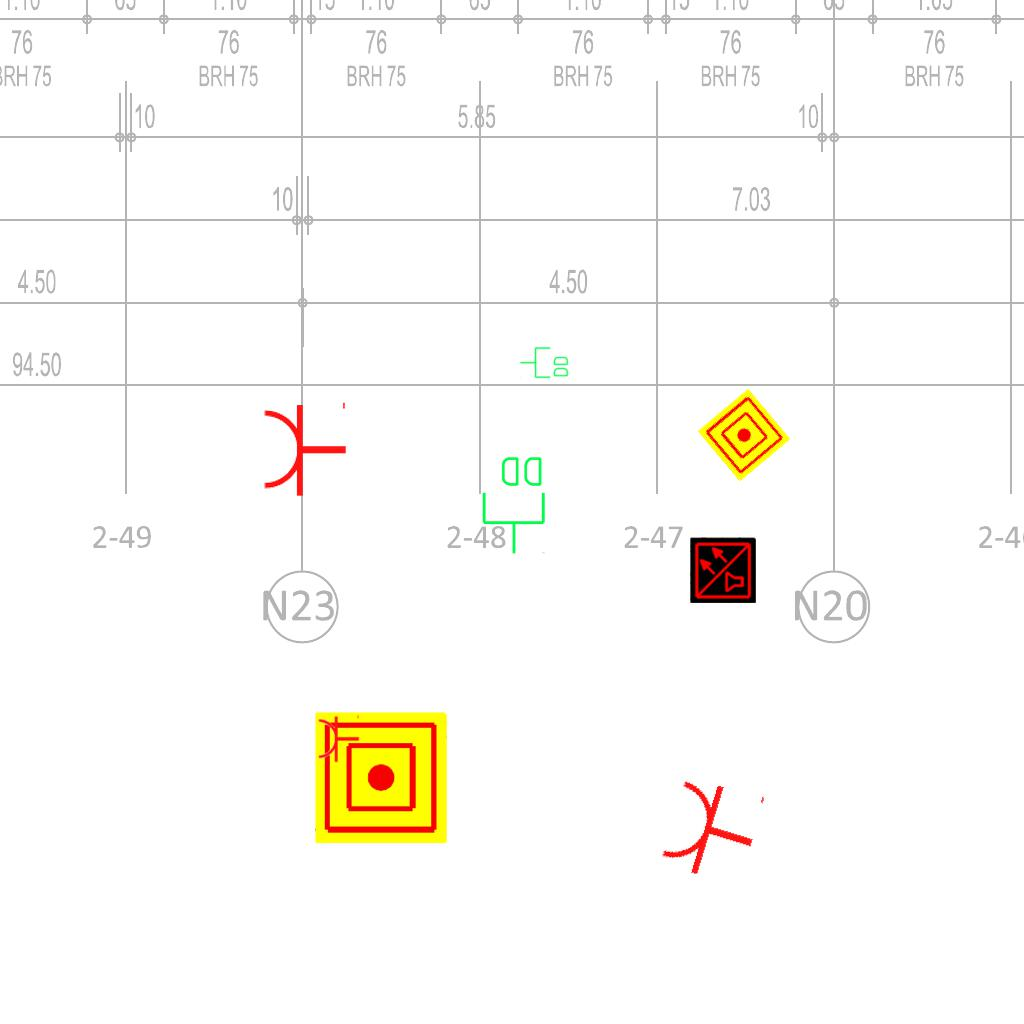Datenanschluss_zweifach: (480, 453, 549, 556), (519, 346, 570, 380)
NAM-Nichtautomatischer_Melder: (315, 712, 447, 844), (697, 388, 791, 482)
OKW_Multisensormelder_(Kombination_optischer_Rauch-Kahlenmonoxid_Waerme-Melder): (690, 537, 756, 603)
Schukosteckdose_einfach: (656, 768, 769, 890), (261, 398, 348, 498), (317, 713, 360, 763)
